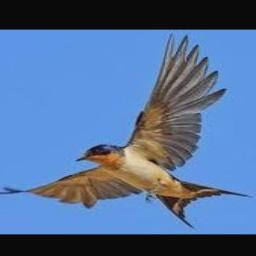Swallow: (0, 34, 254, 230)
